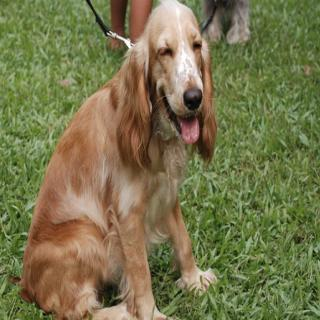dog: (116, 3, 226, 184)
nose: (181, 85, 204, 112)
